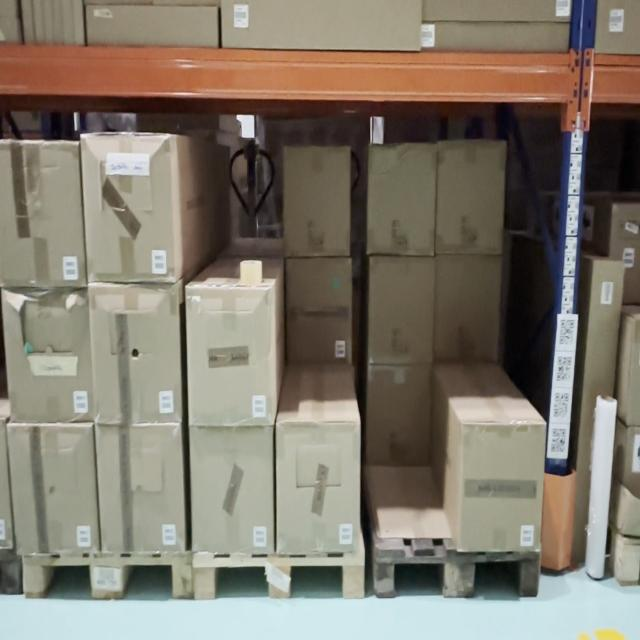box: (87, 142, 177, 279), (188, 293, 274, 424), (96, 290, 182, 421), (280, 417, 359, 559), (8, 293, 90, 420), (11, 425, 94, 549), (101, 434, 180, 558), (460, 426, 541, 545), (191, 429, 271, 548), (437, 142, 504, 256), (369, 144, 434, 252), (368, 256, 434, 361), (284, 150, 348, 250), (288, 265, 352, 359), (436, 259, 498, 355)
